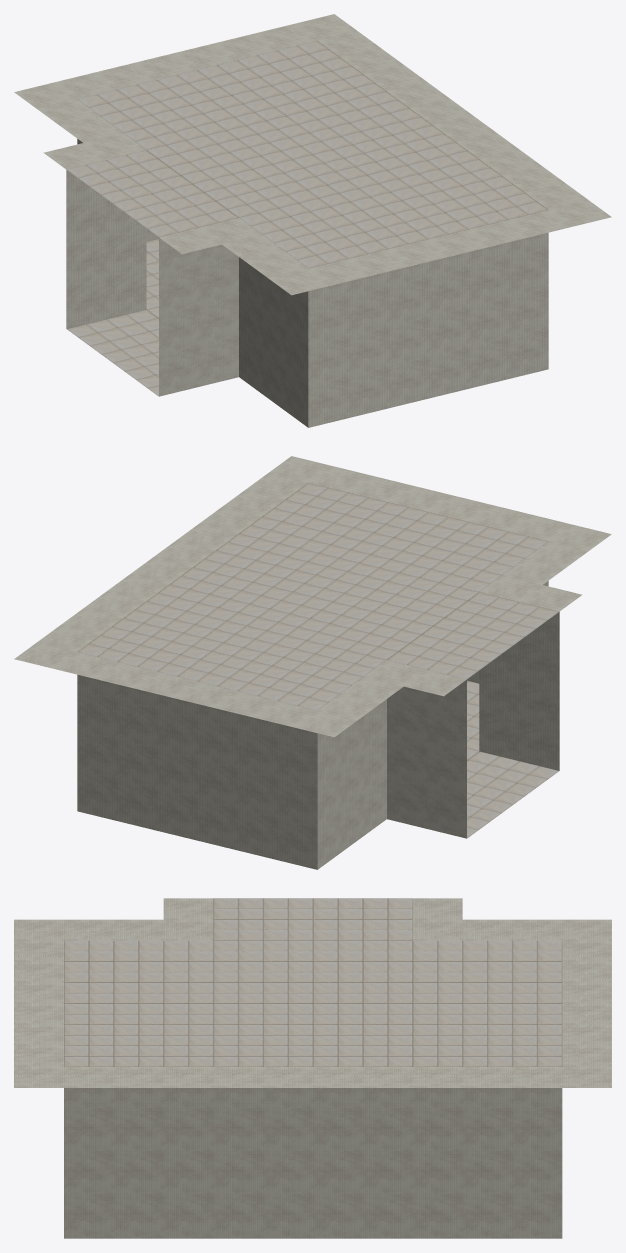
File: Room.fbx
3 views of the same model, one above another, from view 1: azimuth 30°, elevation 25°; view 2: azimuth 150°, elevation 25°; view 3: azimuth 270°, elevation 25° (orthographic). The views are drawn at different scales.
Parts seen in each view (by area): view 1: Room; view 2: Room; view 3: Room.
Boxes of the visible parts, x1,y1,x2,y2 form: Room: (14,14,611,427); Room: (14,456,611,869); Room: (14,898,611,1238).
Bounding box in the file's own units: 900 × 380 × 1200.
